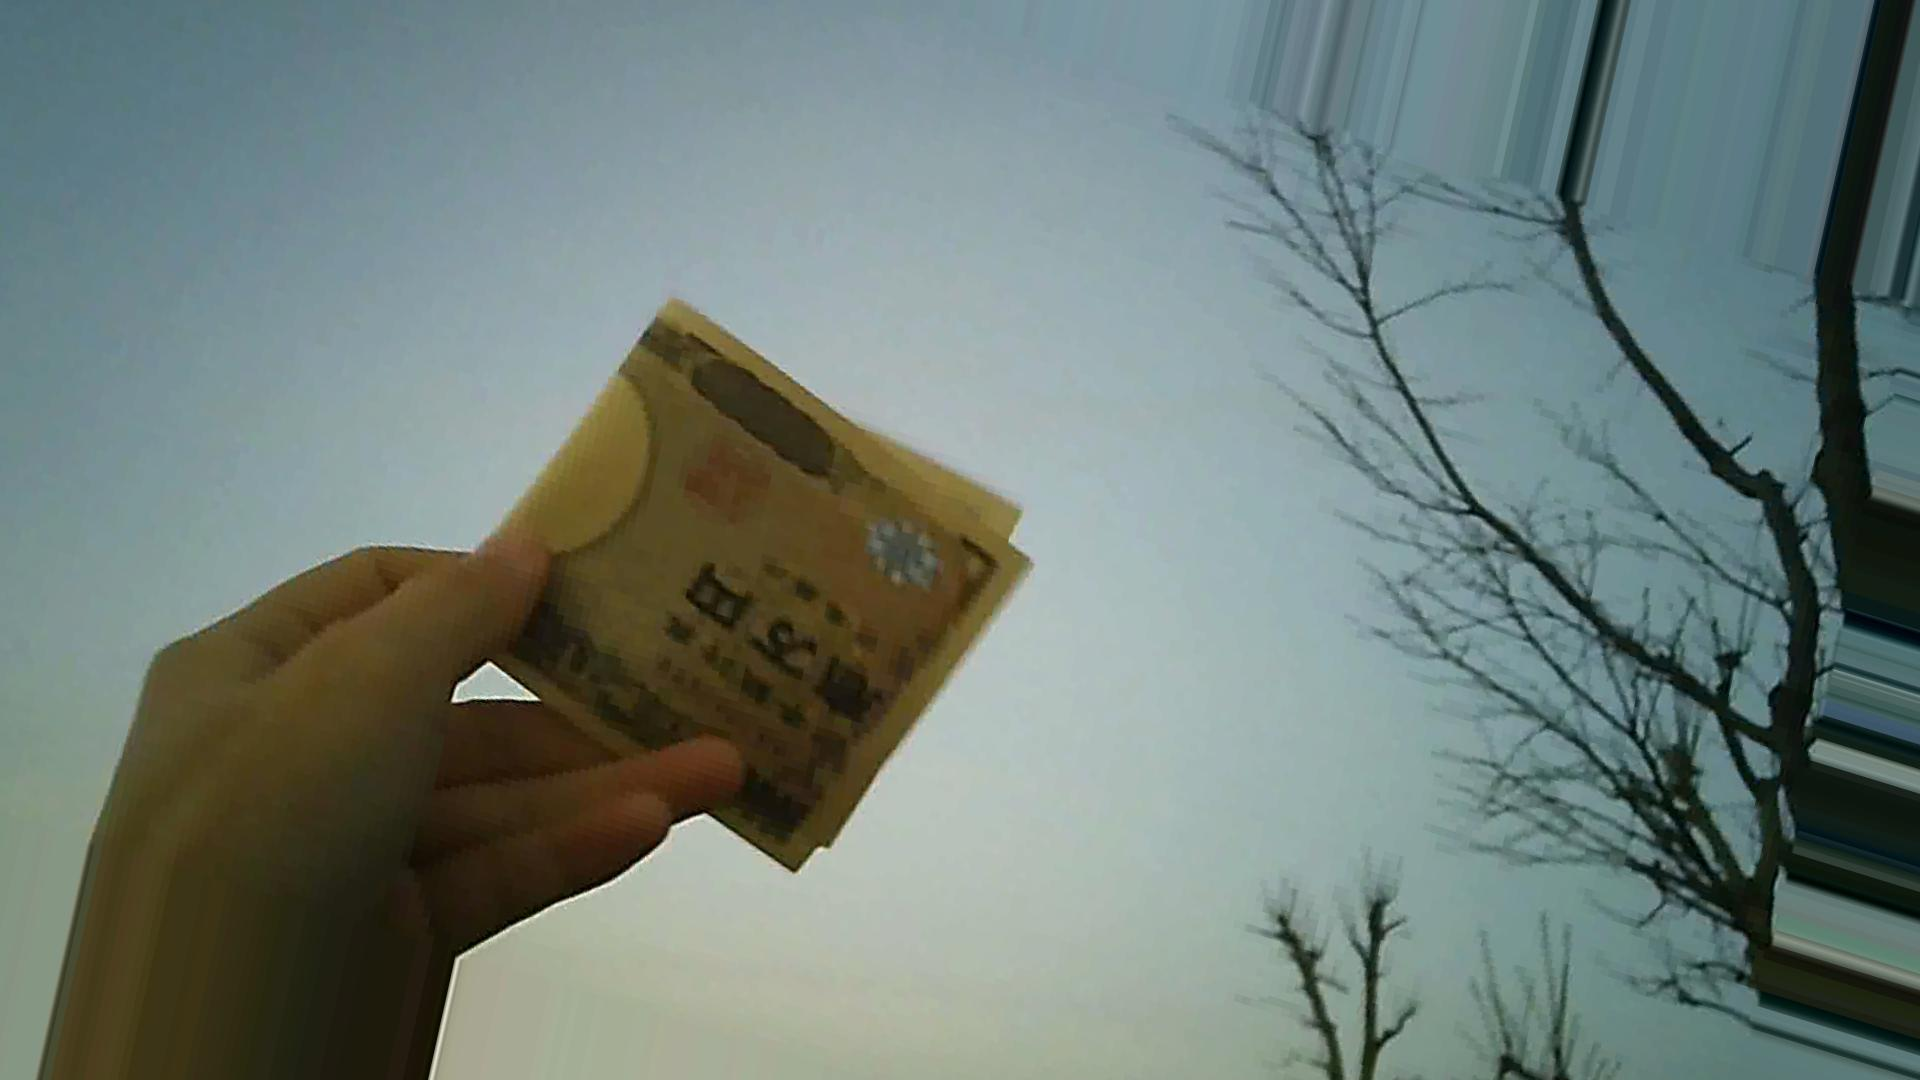10,000 Yen: (390, 307, 1022, 887)
